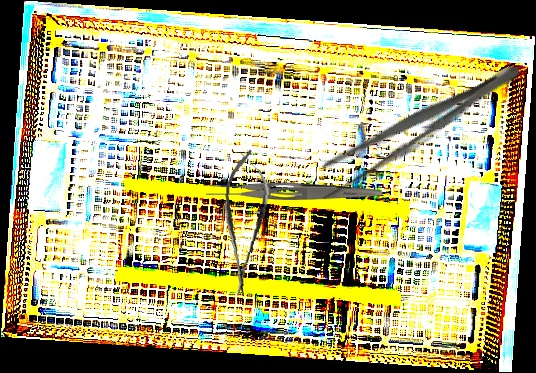Dressing Forceps: (307, 50, 528, 206), (205, 181, 383, 200)
Micro Scissor: (214, 147, 274, 299)
